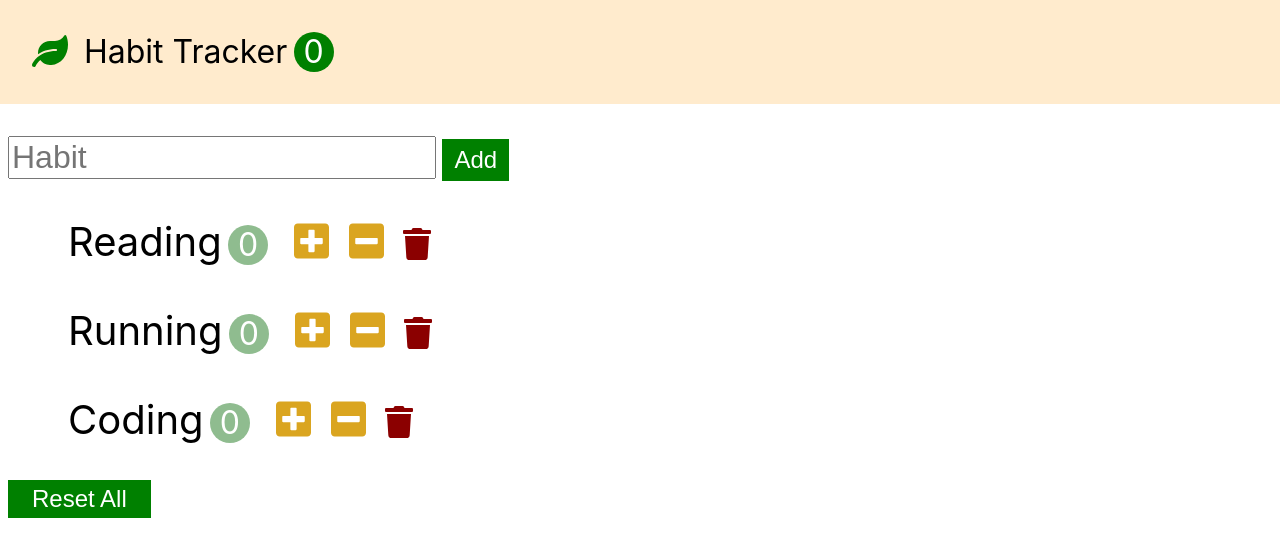
habit-tracker › shows active count on the header
Click the button titled "increase" in the row of "Reading".
click(312, 243)  # box x1=288 y1=219 x2=335 y2=266
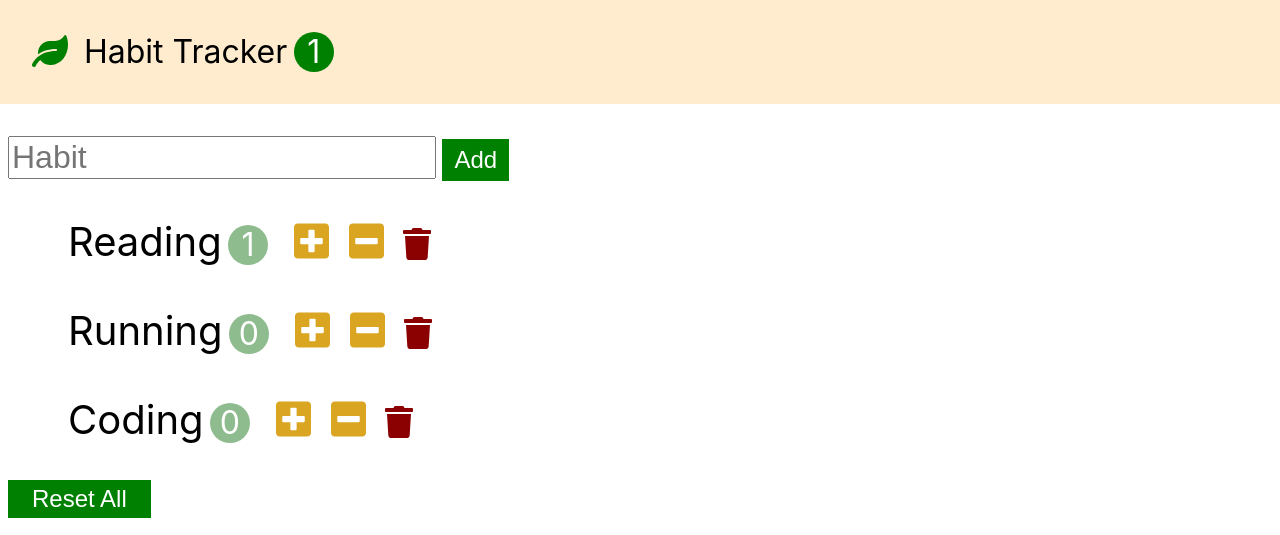
Click the button titled "increase" in the row of "Coding".
click(294, 421)  # box x1=270 y1=397 x2=317 y2=444
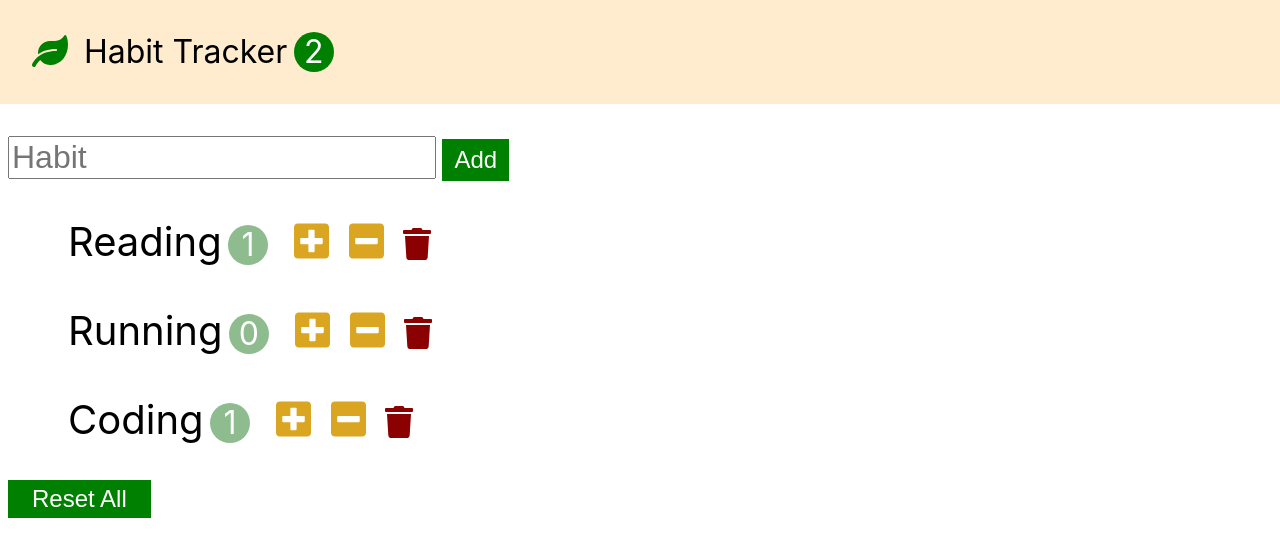
Expected: the text with test id "total-count" reads "2", x1=294 y1=32 x2=334 y2=72
